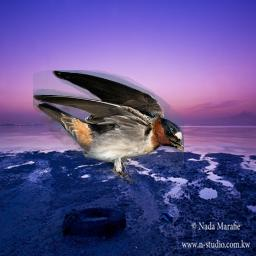Swallow: (33, 70, 184, 184)
